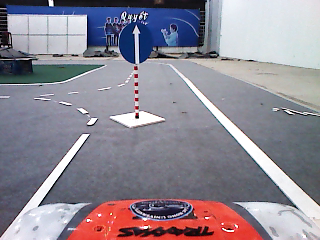straight: (117, 20, 154, 65)
